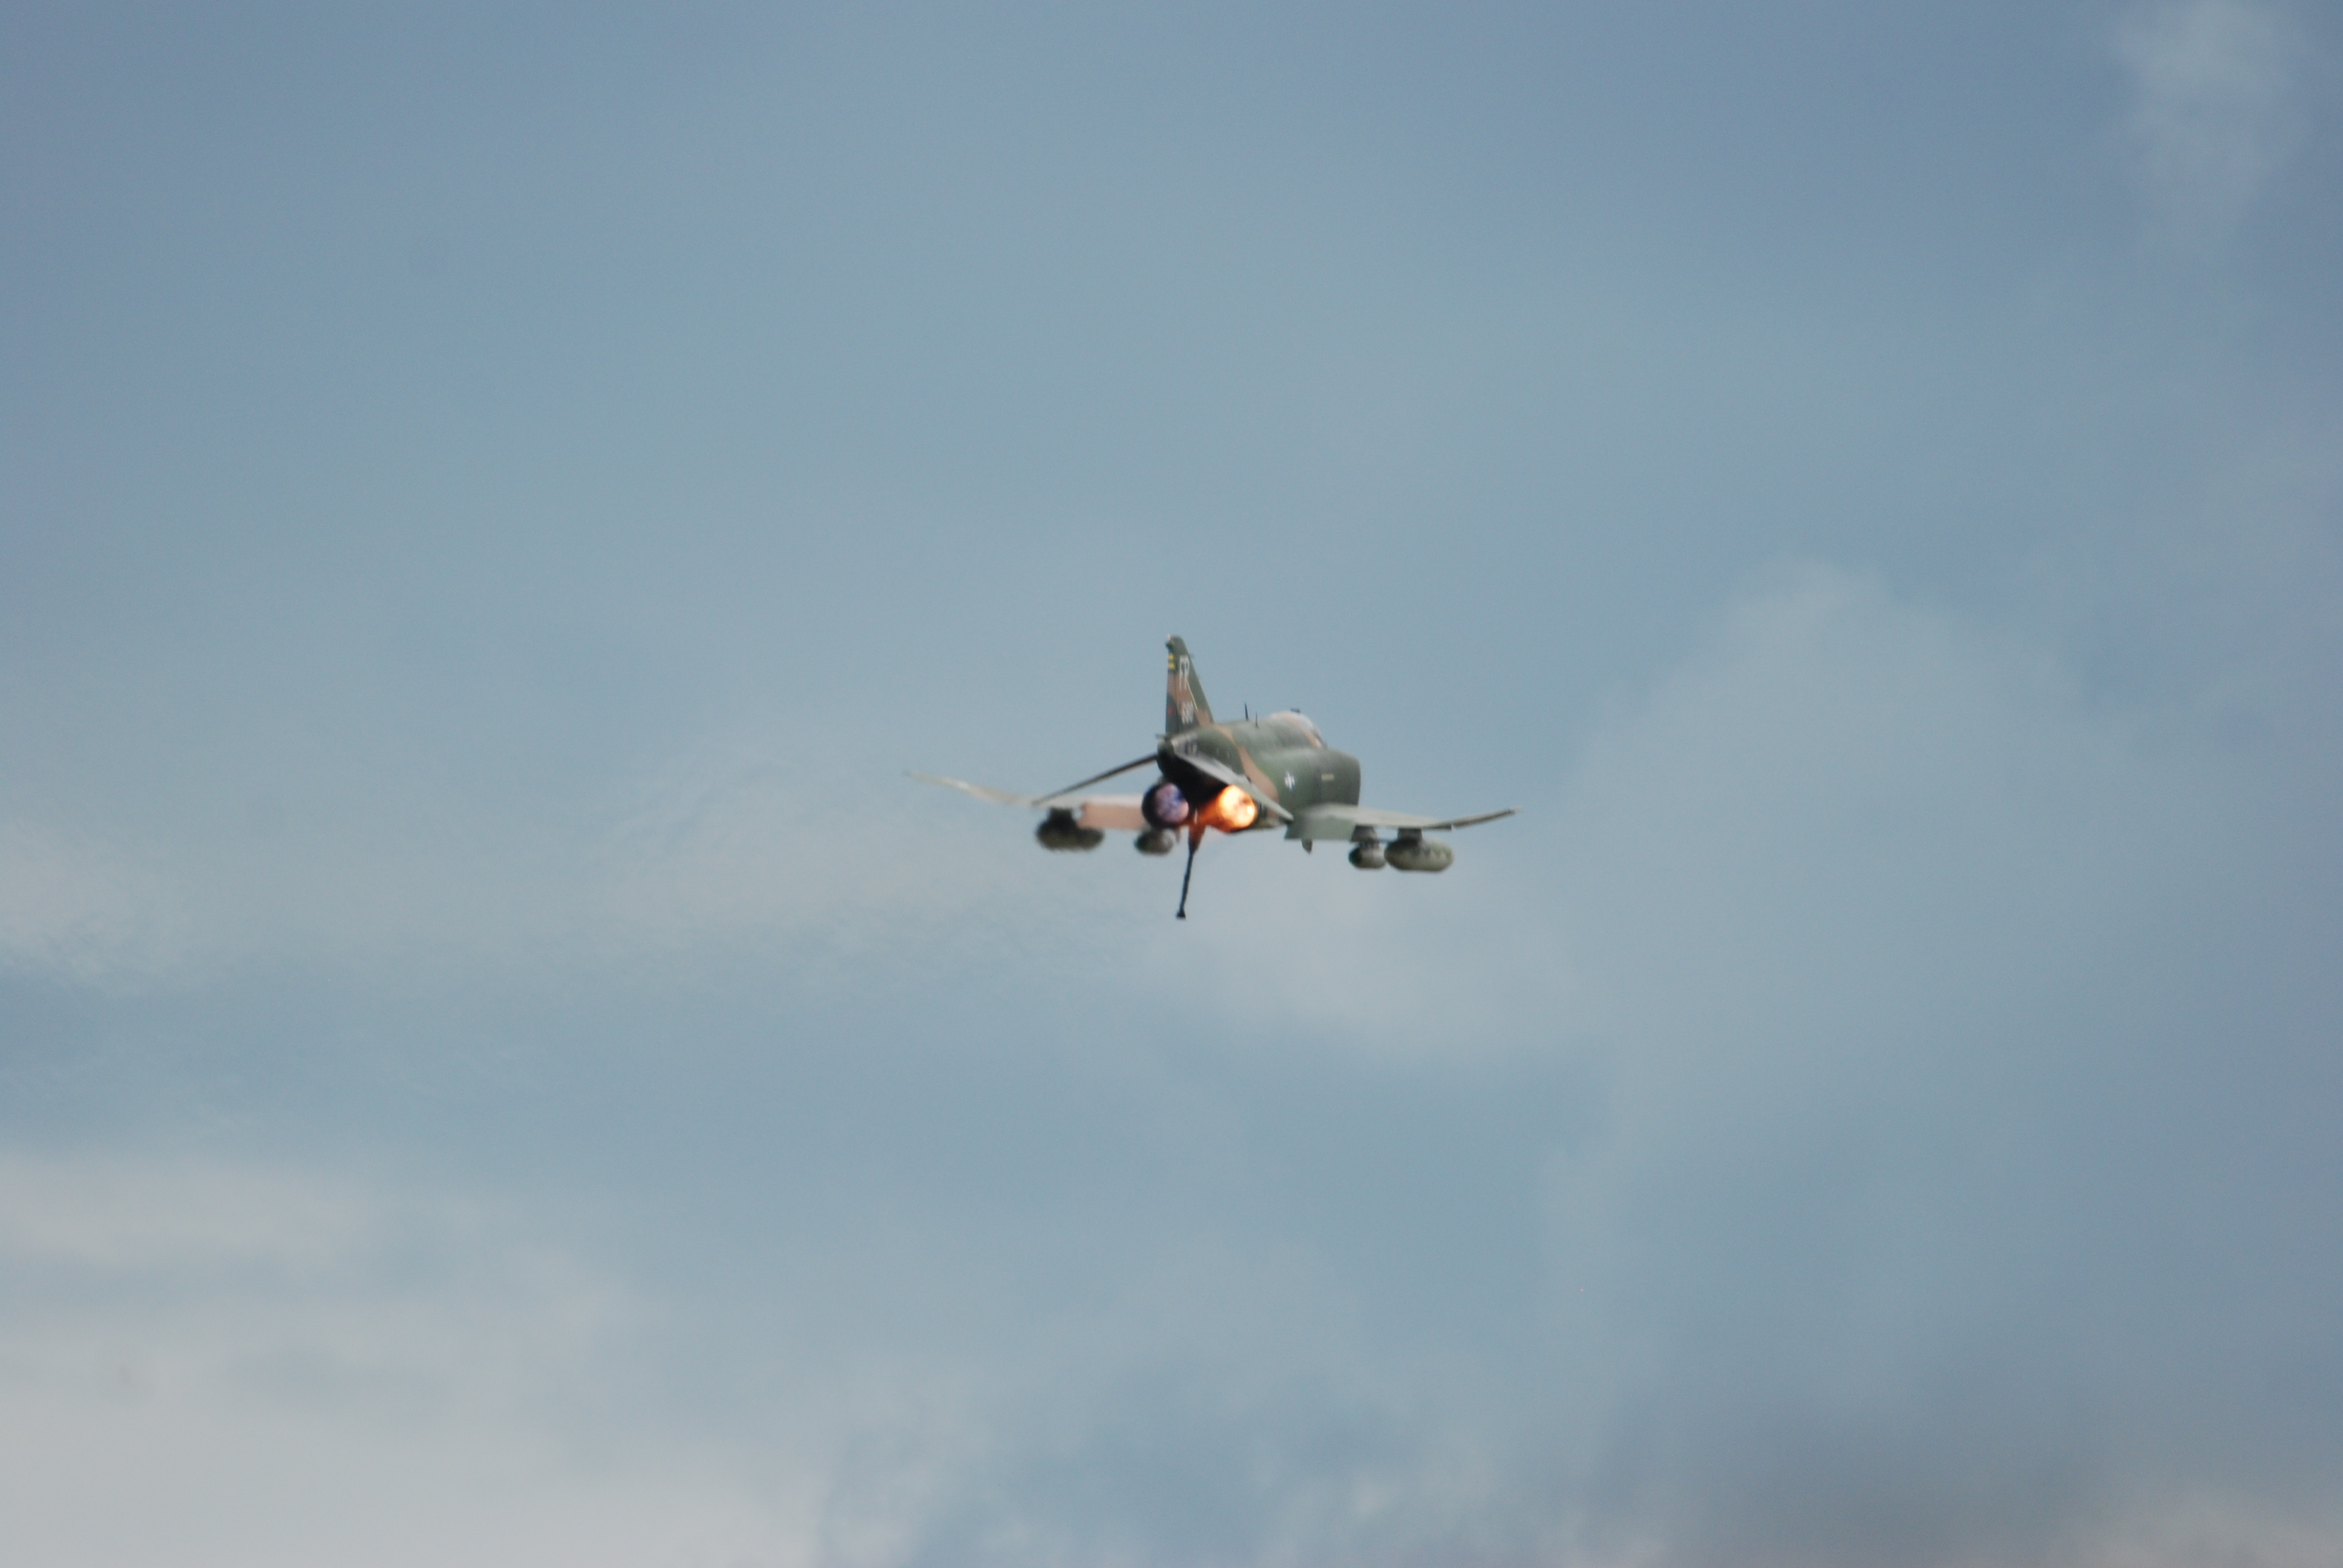F4: (899, 634, 1524, 920)
